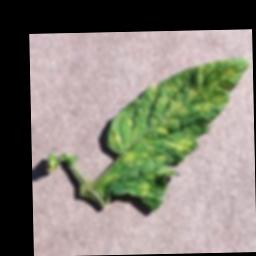Leaf_Mold: (104, 58, 252, 211)
